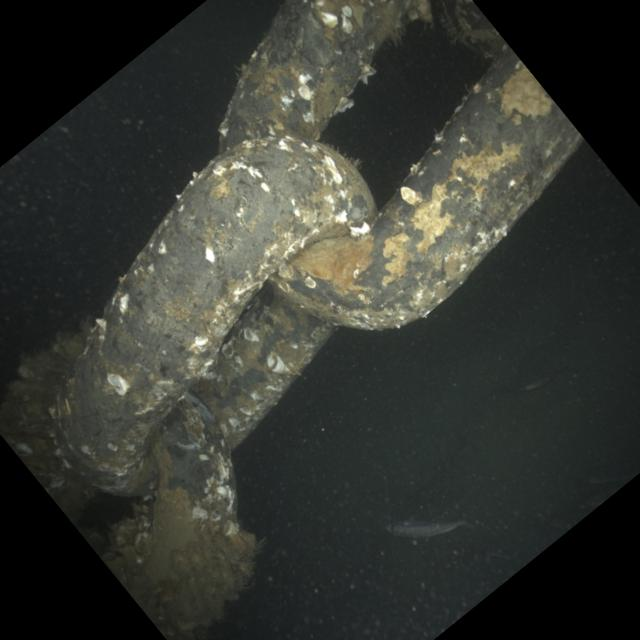ChainLink: (55, 135, 375, 493), (272, 48, 583, 329), (100, 393, 256, 640), (221, 0, 431, 149), (0, 334, 85, 509), (443, 0, 508, 56)
